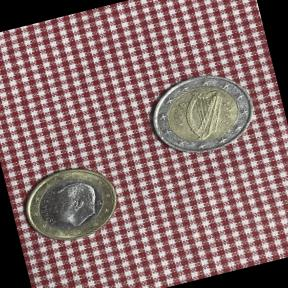coin: (136, 60, 266, 171), (13, 155, 130, 255)
